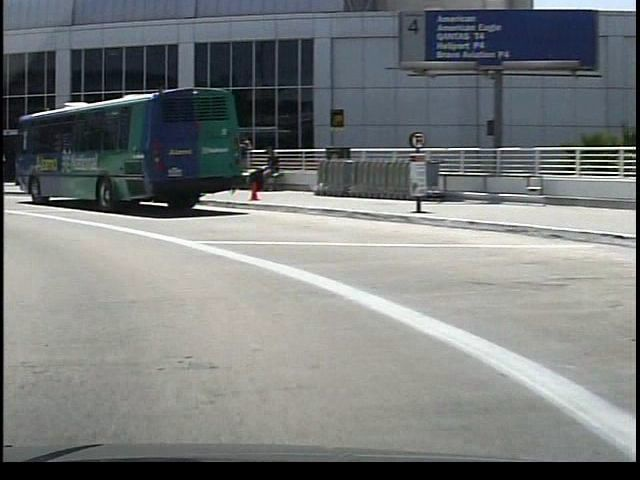person: (248, 144, 276, 195)
